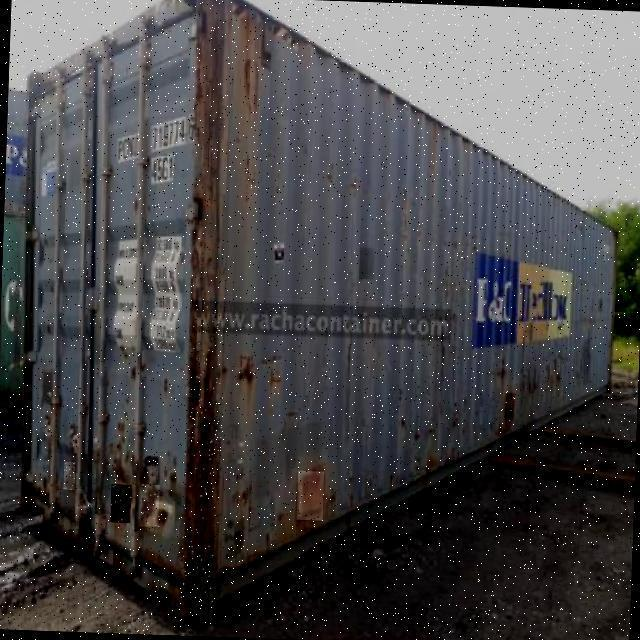rust: (180, 301, 227, 606), (297, 472, 325, 522), (142, 485, 163, 528), (111, 485, 132, 524), (64, 463, 76, 491), (506, 394, 516, 422)
